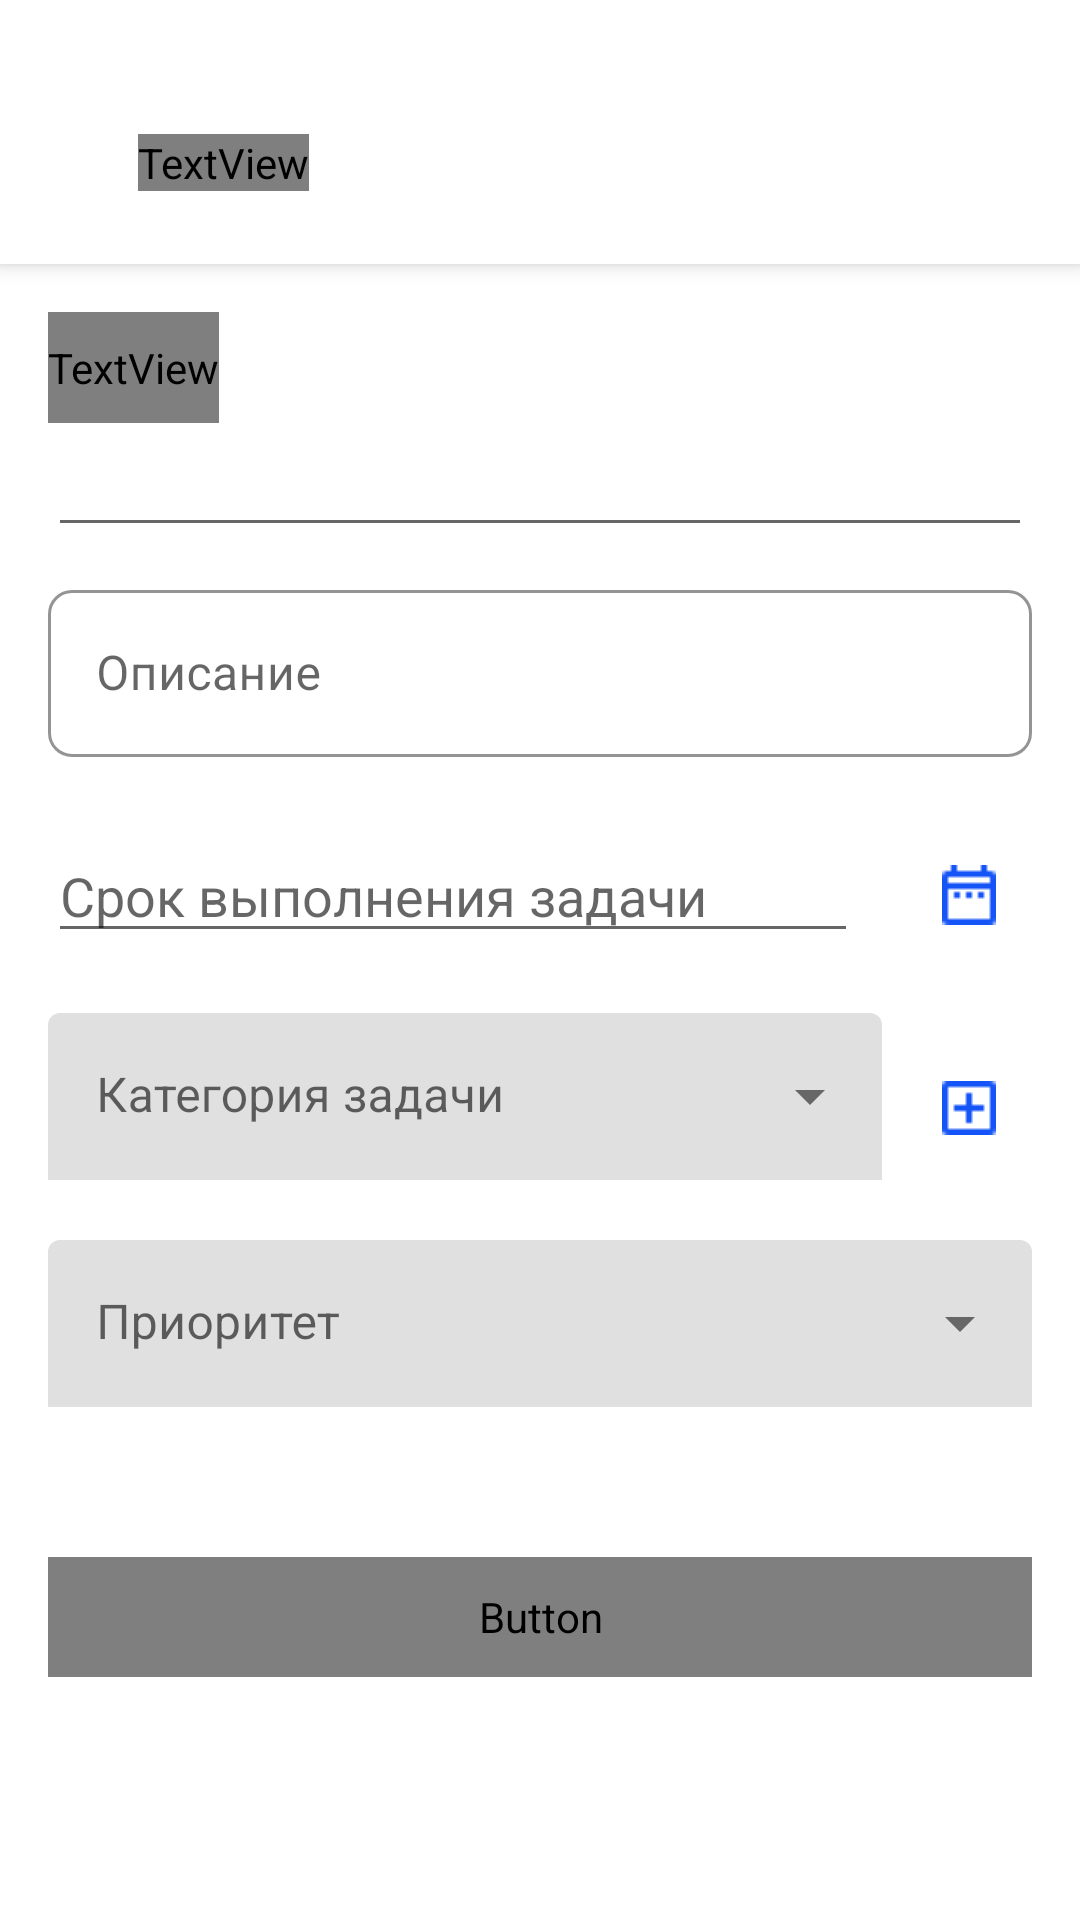

Icon click points for this 1080*1920 phone screenshot, format [x,y]:
add: [969,1108]
calendar: [969,895]
